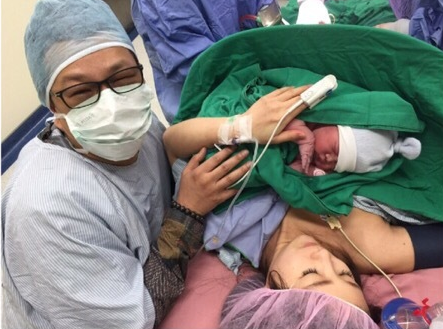face: (276, 235, 367, 314), (307, 125, 362, 170)
face_mask: (54, 42, 153, 160)
